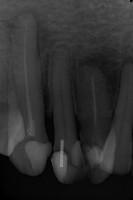Furcation Involvement: (77, 49, 122, 108), (6, 4, 42, 57)
